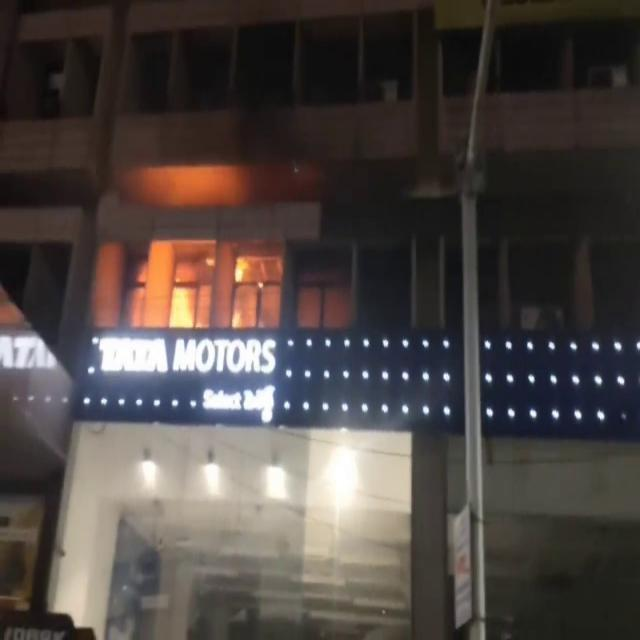Fire: (137, 242, 216, 334)
